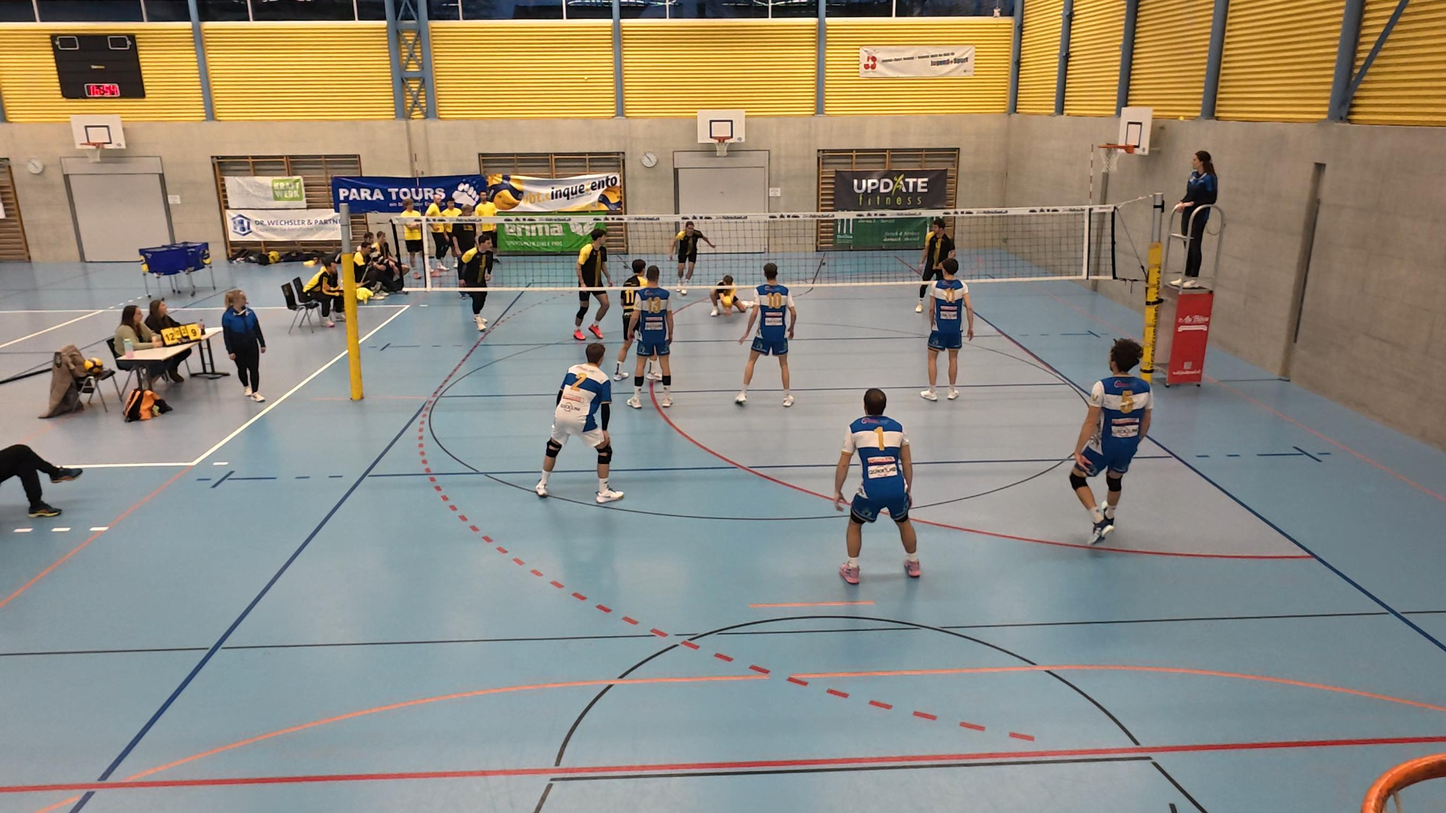Player: (834, 388, 922, 584), (1069, 339, 1153, 540), (536, 340, 623, 503), (733, 264, 797, 408), (921, 262, 977, 402), (451, 204, 506, 340), (626, 272, 678, 409), (569, 228, 614, 348), (610, 258, 651, 374), (909, 219, 955, 314), (672, 218, 702, 291)
Receive: (700, 270, 754, 320)
ball: (722, 293, 736, 312)
